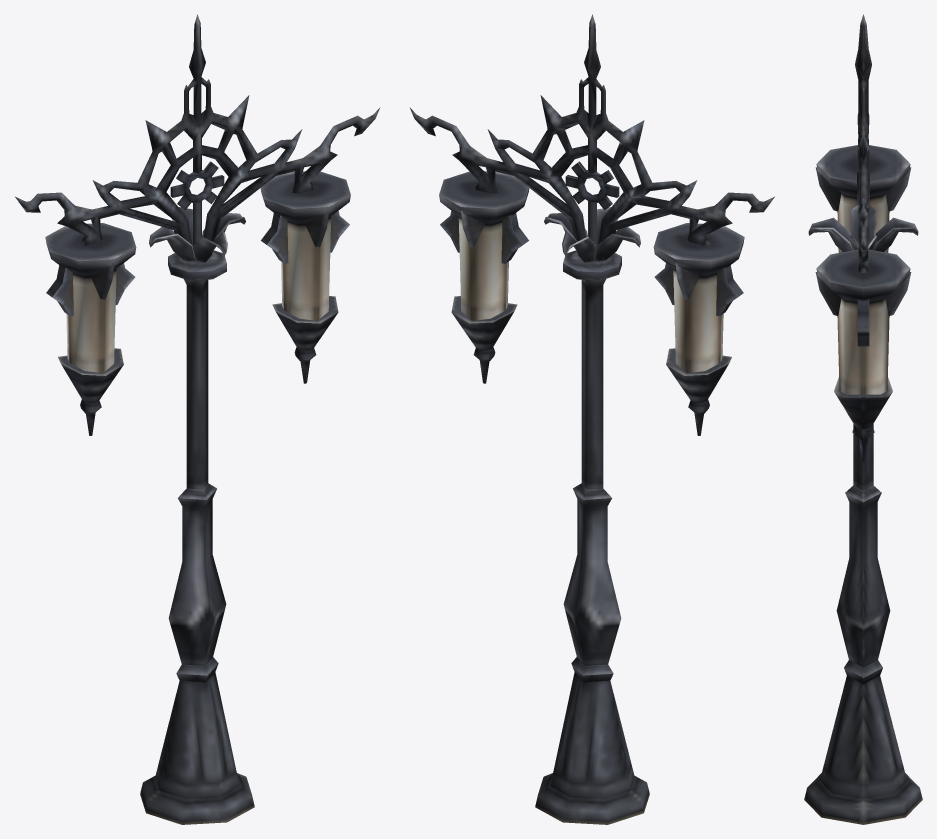
File: SM_EN_2005_ludeng02.FBX
3 views of the same model, side by side, from view 1: azimuth 30°, elevation 25°; view 2: azimuth 150°, elevation 25°; view 3: azimuth 270°, elevation 25° (orthographic).
Parts seen in each view (by area): view 1: SM_EN_2005_ludeng02; view 2: SM_EN_2005_ludeng02; view 3: SM_EN_2005_ludeng02.
Boxes of the visible parts, left/top/right/bottom form: SM_EN_2005_ludeng02: left=15, top=14, right=380, bottom=824; SM_EN_2005_ludeng02: left=409, top=14, right=774, bottom=824; SM_EN_2005_ludeng02: left=804, top=14, right=922, bottom=824.
Bounding box in the file's own units: 111 × 228 × 31.25.
